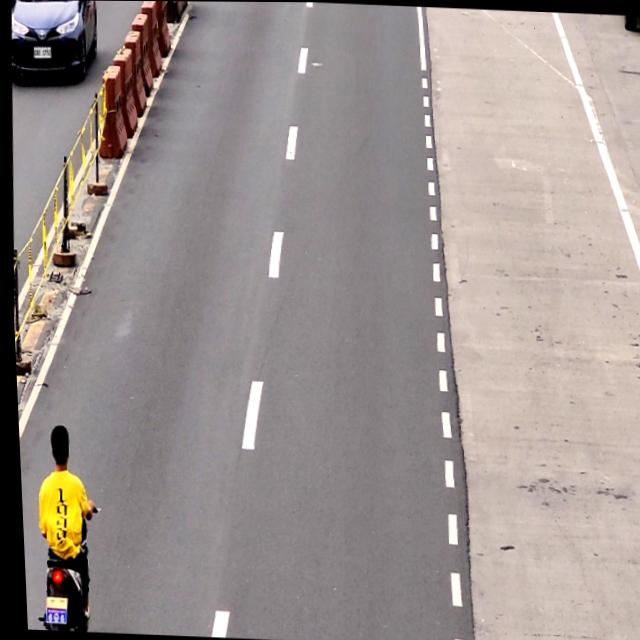Motorcycle: (21, 423, 96, 631)
